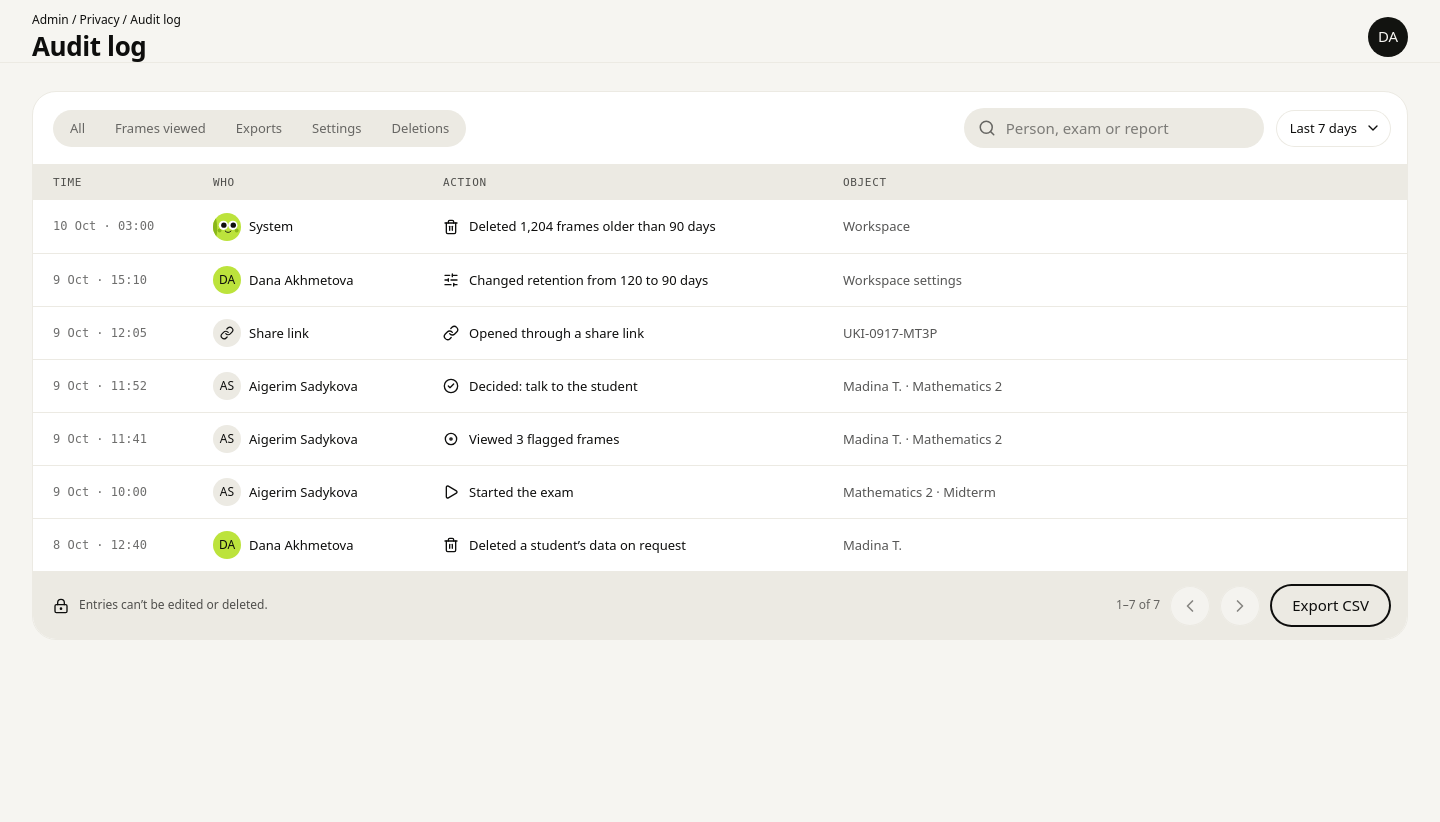
it: A.6 Audit log › searches who, what and on what in the browser
The image size is (1440, 822).
Type "madina viewed" into the search field named "Search the audit log" at x=1127, y=128, box x1=1006 y1=117 x2=1248 y2=140
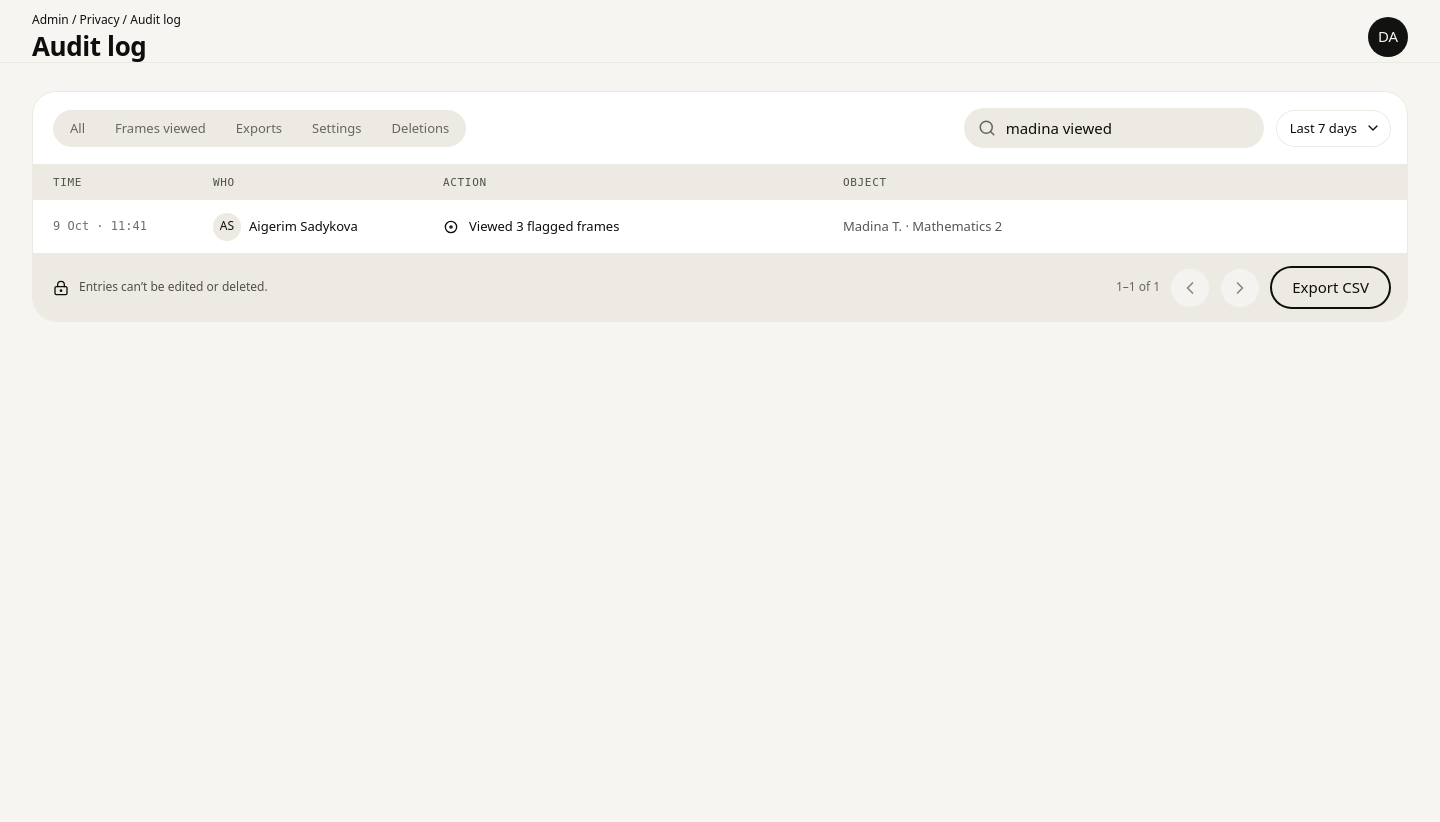
Replace the text in the search field named "Search the audit log" with "nobody" at x=1127, y=128, box x1=1006 y1=117 x2=1248 y2=140
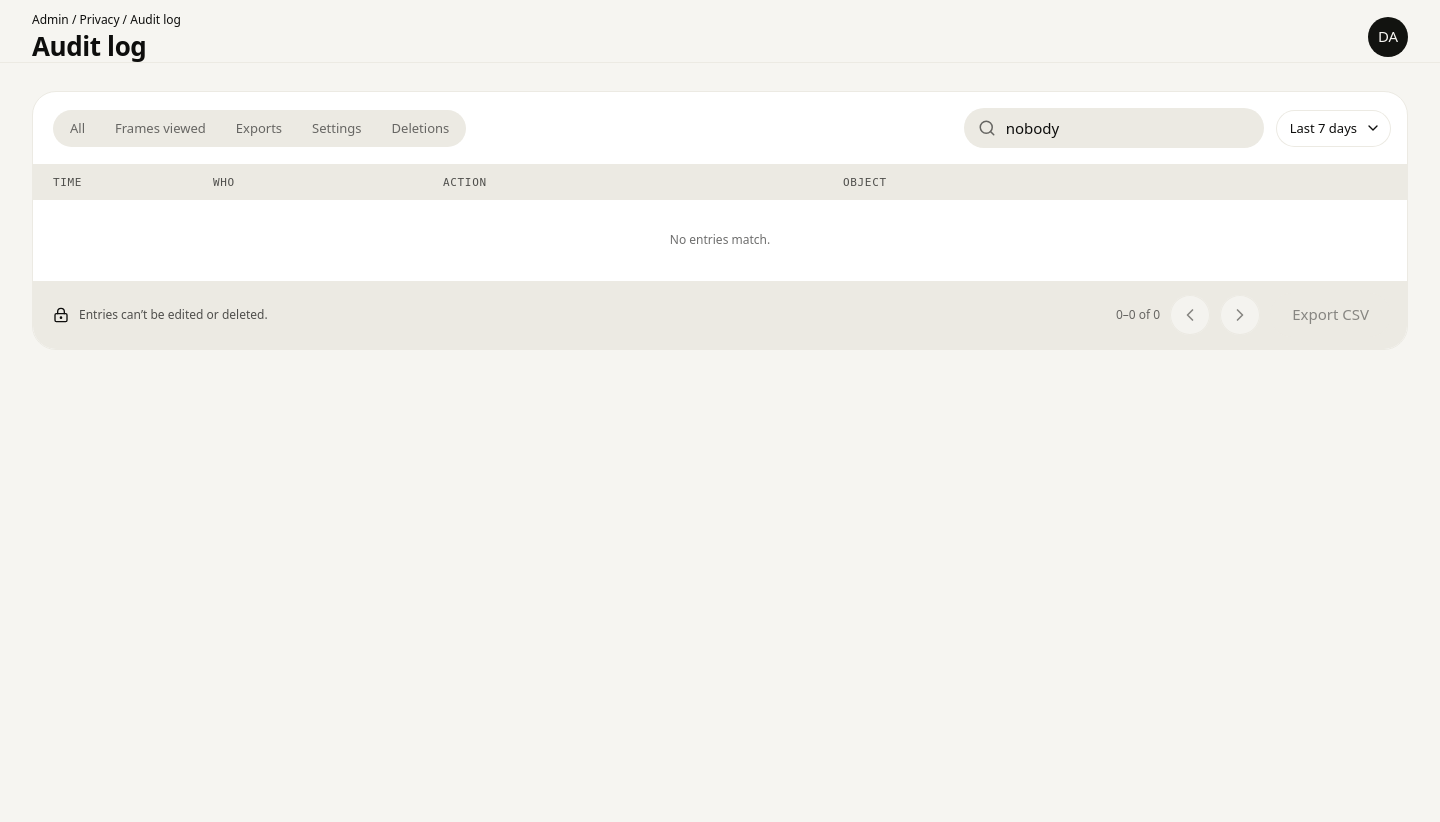
Result: the text "No entries match." is shown at x1=33 y1=200 x2=1407 y2=281
